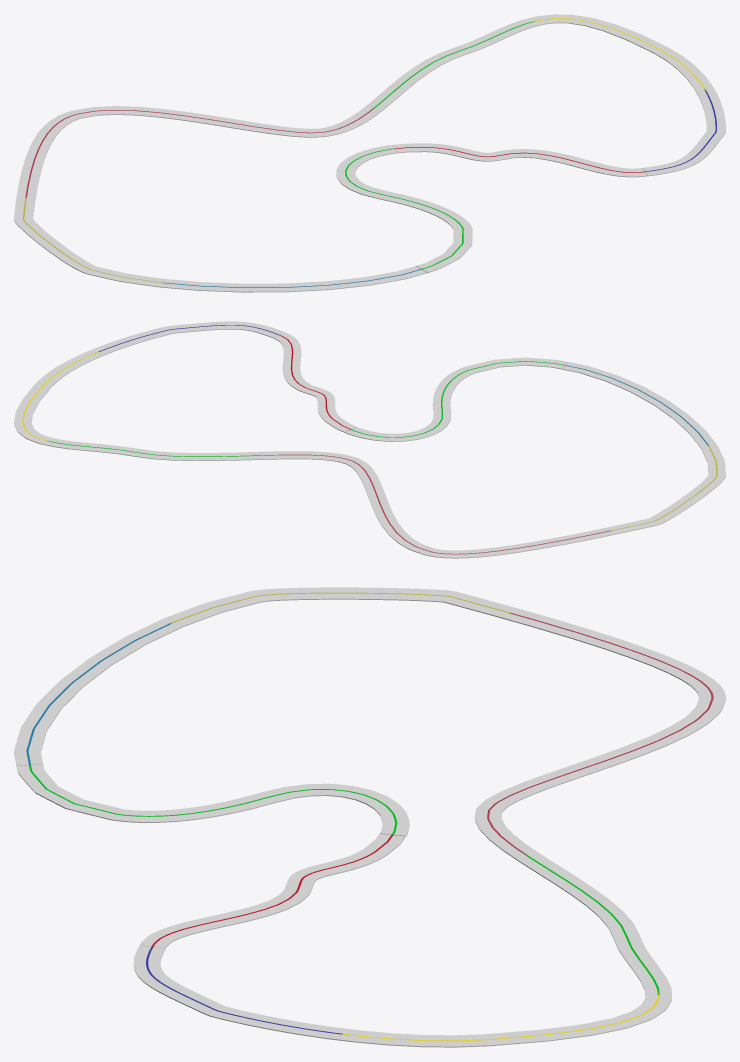
Rendered from Szines_palya_koves_szellel_007.dae.
3 views of the same model, one above another, from view 1: azimuth 30°, elevation 25°; view 2: azimuth 150°, elevation 25°; view 3: azimuth 270°, elevation 25° (orthographic). The views are drawn at different scales.
Visible parts, largest first — view 1: Cube.007, Cube.005, Cube.009, Cube, Cube.008, Cube.006, Cube.004, Cube.002; view 2: Cube.007, Cube.005, Cube.006, Cube.009, Cube.008, Cube, Cube.004, Cube.002; view 3: Cube.007, Cube.005, Cube.008, Cube.004, Cube, Cube.009, Cube.006, Cube.002.
Part boxes in pixels (x1,y1,x2,y2): Cube.007: [16, 105, 383, 197]; Cube.005: [336, 145, 472, 272]; Cube.009: [160, 266, 427, 292]; Cube: [392, 143, 647, 177]; Cube.008: [14, 197, 164, 287]; Cube.006: [366, 18, 539, 111]; Cube.004: [526, 14, 713, 91]; Cube.002: [643, 88, 725, 176]; Cube.007: [279, 451, 615, 558]; Cube.005: [345, 357, 567, 441]; Cube.006: [42, 437, 287, 460]; Cube.009: [561, 362, 716, 446]; Cube.008: [607, 445, 725, 534]; Cube: [273, 332, 356, 432]; Cube.004: [14, 349, 104, 445]; Cube.002: [91, 321, 284, 355]; Cube.007: [474, 608, 725, 858]; Cube.005: [16, 764, 409, 836]; Cube.008: [162, 587, 516, 628]; Cube.004: [339, 991, 671, 1047]; Cube: [140, 833, 405, 948]; Cube.009: [14, 619, 180, 765]; Cube.006: [508, 848, 671, 995]; Cube.002: [133, 945, 348, 1040].
Size of the model in its own units: 395 by 259 by 0.3937.
